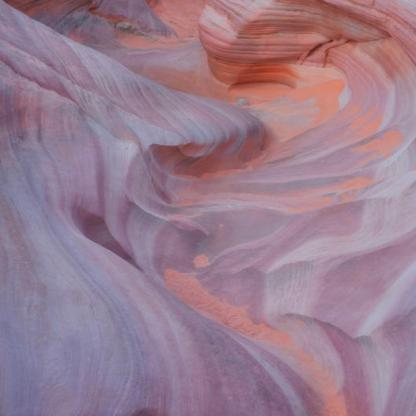Sedimentary_Sandstone: (190, 210, 415, 416), (124, 61, 276, 186), (202, 1, 344, 87)
